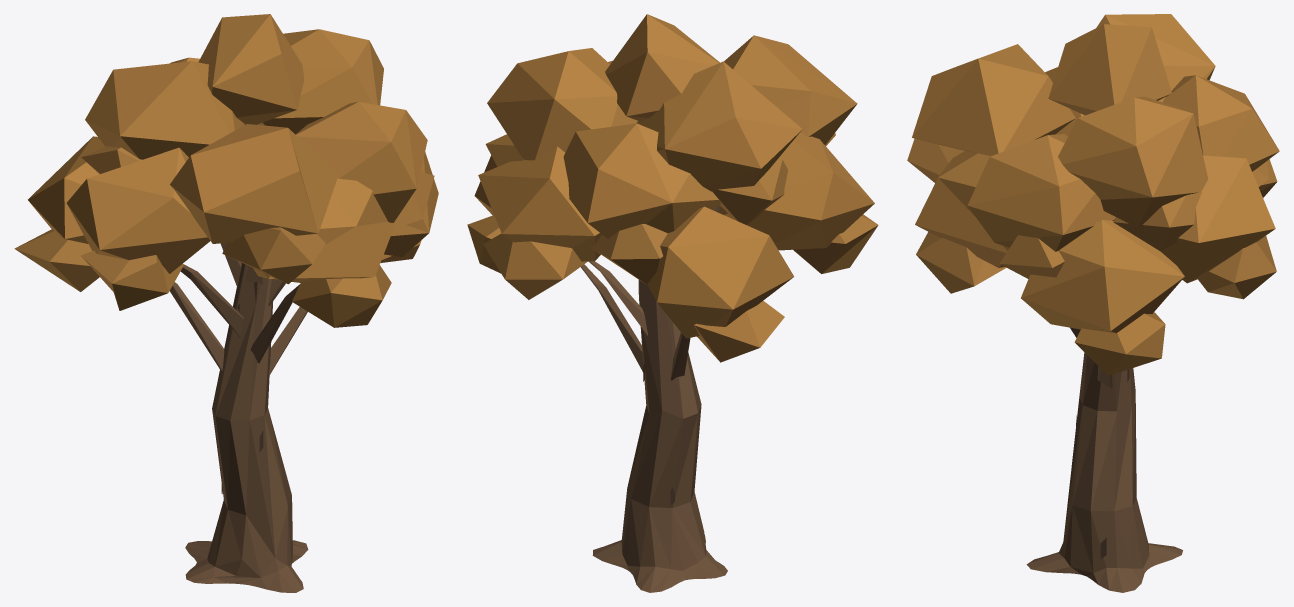
Rendered from oak_autumn.glb.
The picture shows the model from 3 angles, left to right: view 1: azimuth 30°, elevation 25°; view 2: azimuth 150°, elevation 25°; view 3: azimuth 270°, elevation 25°; orthographic projection.
Parts seen in each view (by area): view 1: leaves, branches; view 2: leaves, branches; view 3: leaves, branches.
Boxes of the visible parts, <box> form: leaves: <box>14,14,438,327</box>; branches: <box>170,124,308,592</box>; leaves: <box>467,14,878,362</box>; branches: <box>581,205,727,592</box>; leaves: <box>907,14,1279,375</box>; branches: <box>1026,327,1182,592</box>.
Bounding box in the file's own units: 3.42 × 4.8 × 2.97.
